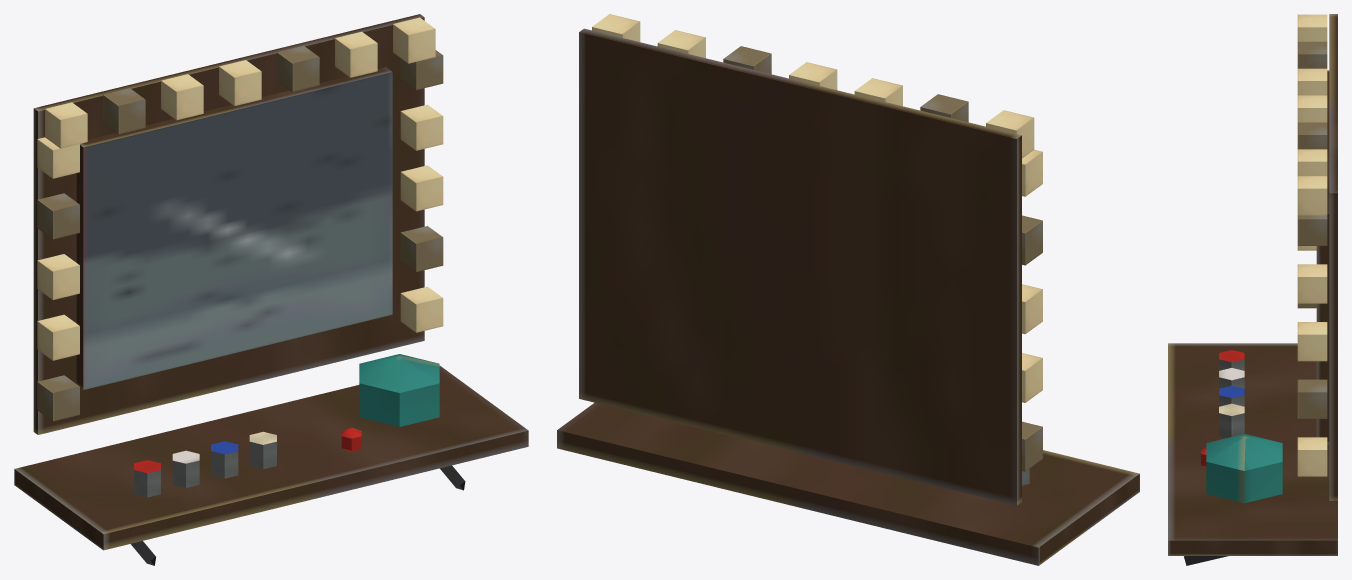
The model's file is vanity_mirror.obj.
The picture shows the model from 3 angles, left to right: view 1: azimuth 30°, elevation 25°; view 2: azimuth 150°, elevation 25°; view 3: azimuth 270°, elevation 25°; orthographic projection. The views are drawn at different scales.
Parts seen in each view (by area): view 1: vanity_mirror, vanity_mirror_bulbs; view 2: vanity_mirror, vanity_mirror_bulbs; view 3: vanity_mirror, vanity_mirror_bulbs.
Boxes of the visible parts, x1,y1,x2,y2 form: vanity_mirror: (14, 14, 528, 565); vanity_mirror_bulbs: (37, 17, 443, 360); vanity_mirror: (557, 28, 1139, 565); vanity_mirror_bulbs: (592, 14, 1042, 402); vanity_mirror: (1168, 14, 1337, 565); vanity_mirror_bulbs: (1297, 14, 1327, 476).
Bounding box in the file's own units: 1.1 × 1.02 × 0.4.
Materials: 1 (1 with a texture image).
